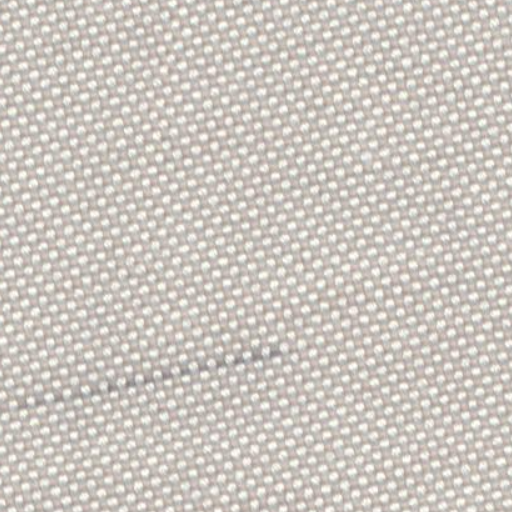WuZi: (8, 344, 290, 406)
